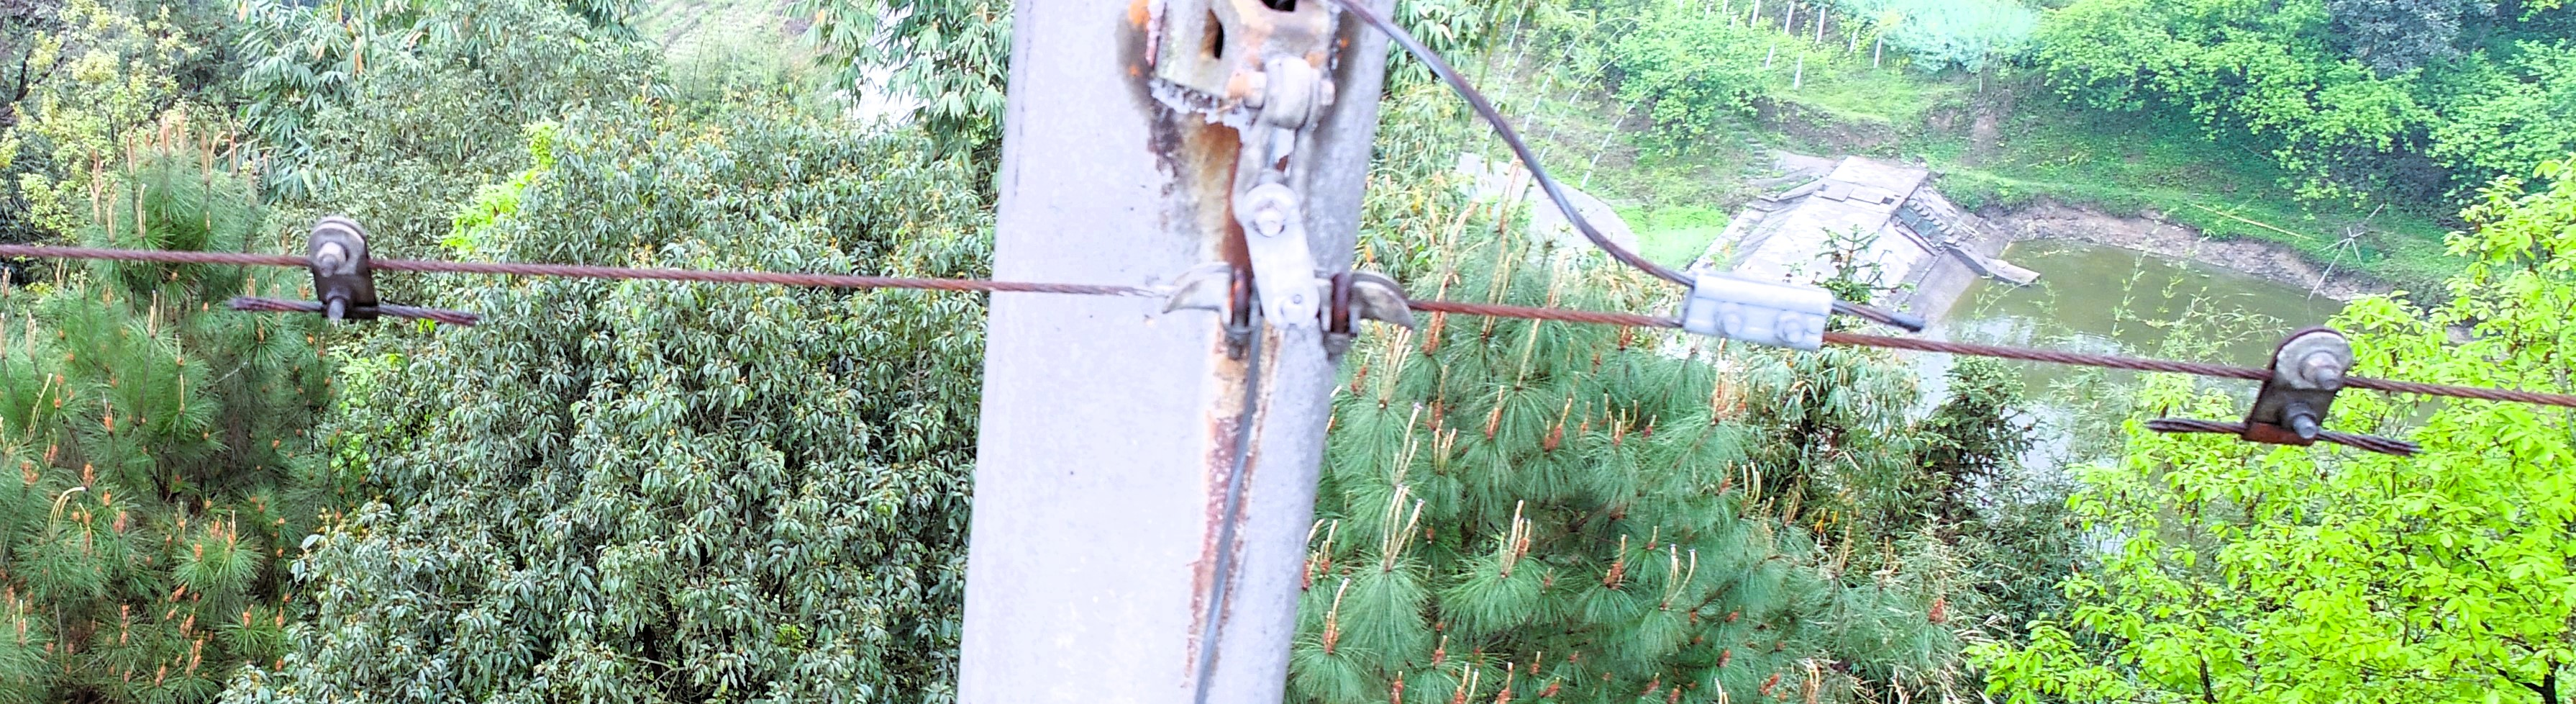Damage of shockproof hammer: (2127, 321, 2449, 477), (217, 211, 486, 345)
